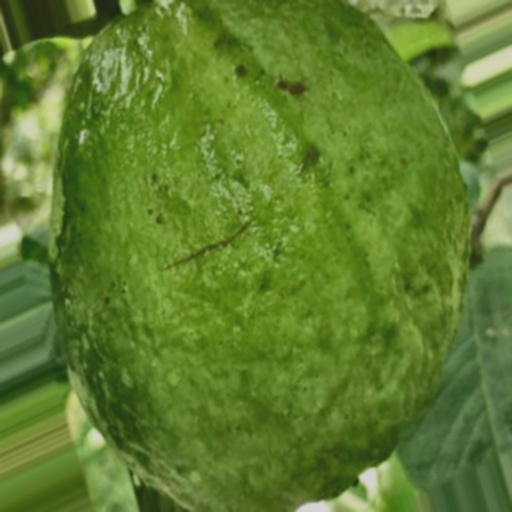guava: (74, 7, 512, 451)
